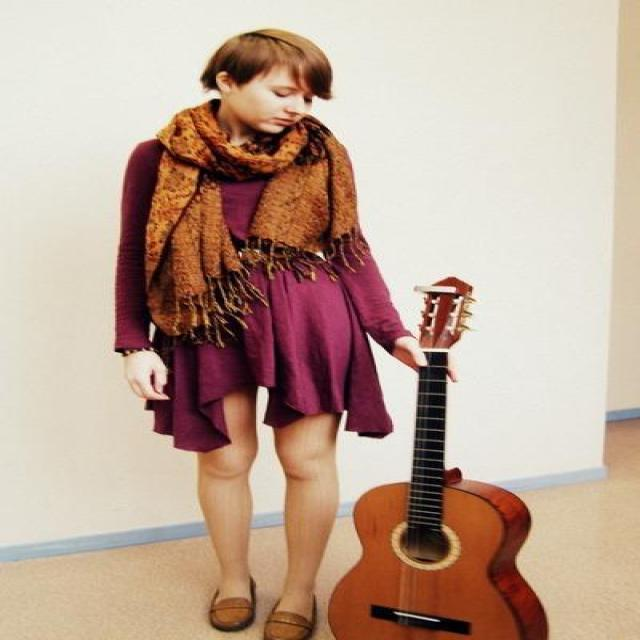dress: (113, 141, 414, 453)
shoe: (206, 577, 317, 639)
